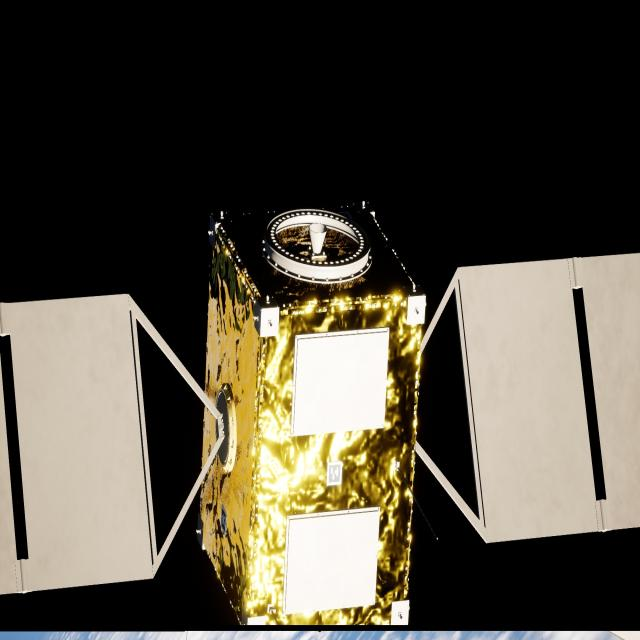medium_debris: (0, 207, 640, 627)
